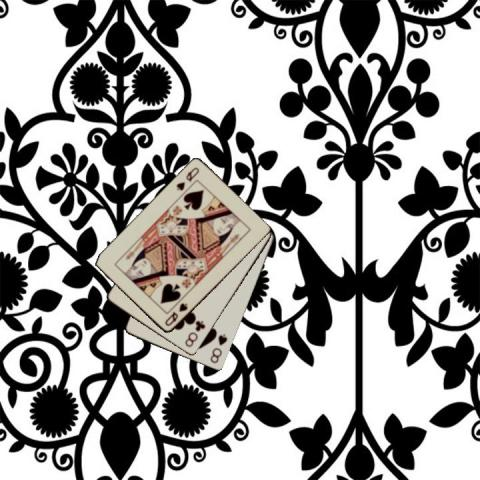8c: (182, 318, 207, 349)
8s: (207, 330, 229, 364)
Qs: (173, 164, 201, 192), (162, 300, 189, 328)
